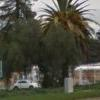Palm tree: (39, 0, 97, 60)
